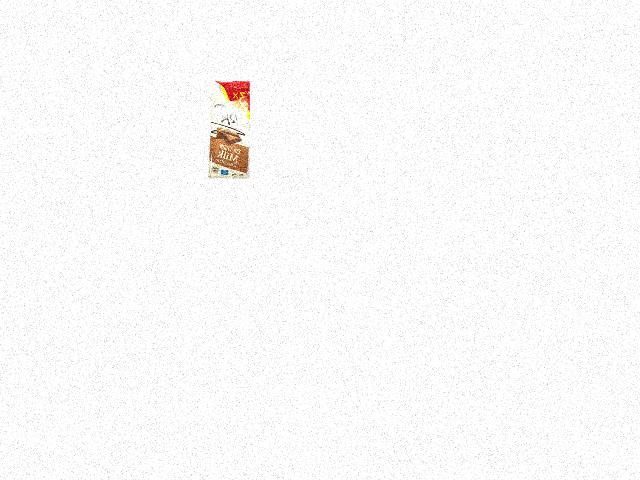chocolate: (206, 78, 253, 176)
